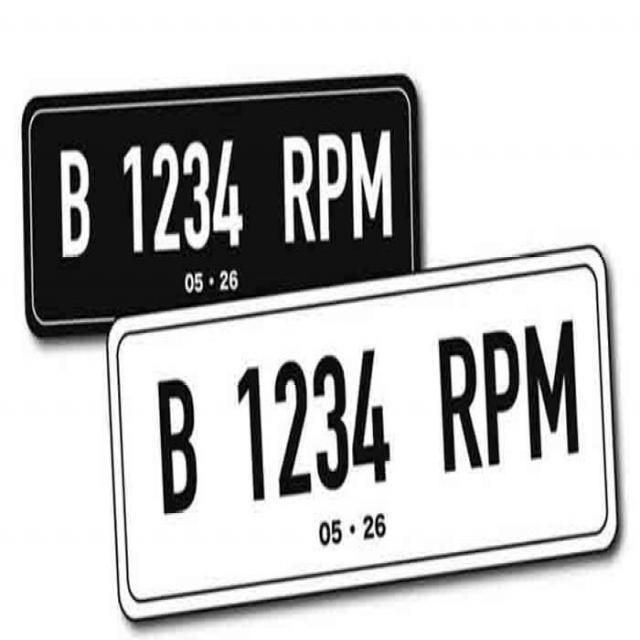1: (238, 363, 276, 513), (116, 142, 152, 260)
2: (276, 362, 308, 514), (148, 140, 186, 259)
3: (318, 350, 347, 502), (178, 138, 214, 257)
4: (348, 350, 388, 500), (209, 137, 248, 250)
B: (143, 373, 209, 527), (52, 146, 102, 262)
M: (516, 323, 578, 467), (348, 125, 400, 246)
P: (486, 323, 516, 478), (318, 130, 350, 248)
R: (436, 333, 480, 481), (278, 132, 320, 260)
